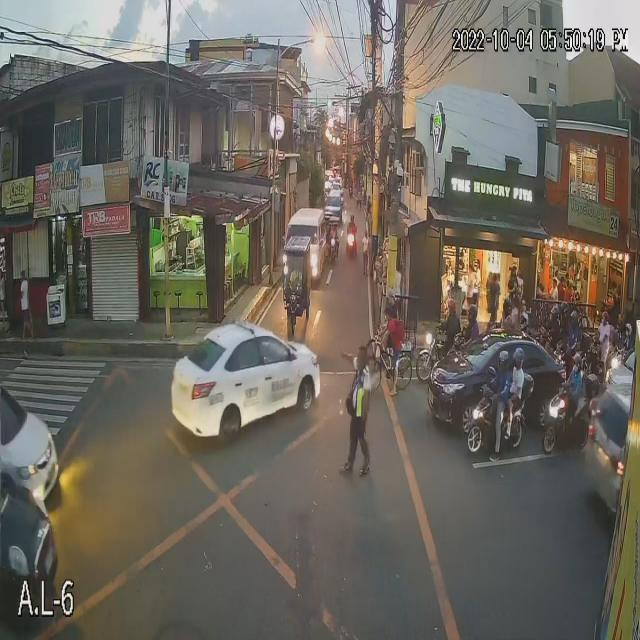helmet: (510, 349, 528, 371), (495, 350, 511, 373), (567, 355, 585, 374), (500, 299, 514, 317), (548, 306, 560, 326), (468, 305, 479, 324), (446, 297, 456, 315), (518, 312, 529, 327), (558, 302, 569, 317), (568, 312, 579, 327), (622, 321, 632, 336), (598, 312, 608, 325), (349, 215, 354, 223)
motorcycle: (466, 382, 526, 456), (541, 380, 592, 453), (604, 345, 634, 390), (415, 340, 446, 382), (345, 232, 358, 258)
rider: (558, 352, 590, 411), (487, 348, 515, 410), (437, 294, 461, 351), (506, 347, 528, 404), (594, 310, 612, 355), (494, 294, 514, 333), (514, 308, 532, 342), (558, 299, 573, 339), (464, 301, 479, 340), (622, 319, 635, 350), (549, 305, 559, 345), (569, 308, 578, 351), (346, 213, 356, 237)
